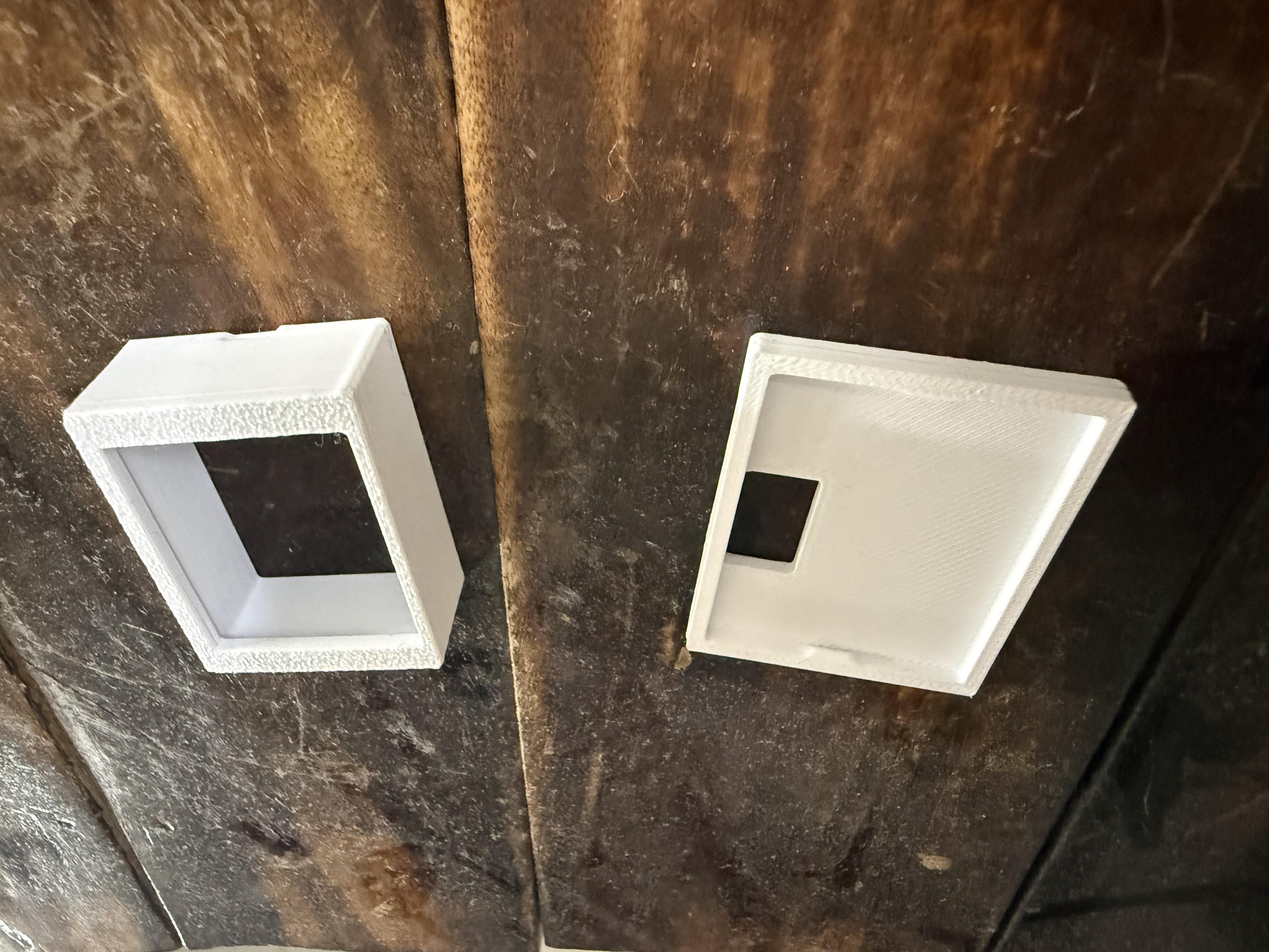enclosure: (684, 332, 1138, 698), (62, 317, 465, 674)
